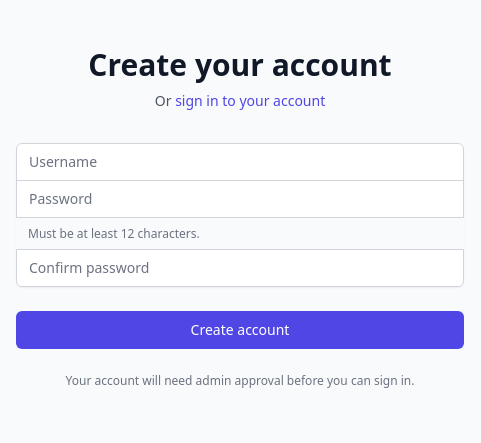
it: Register › shows a validation message when passwords do not match
The image size is (481, 443).
Type "newuser" into the field labelled "Username".
click(240, 162); type("newuser")  # box [16, 143, 464, 181]
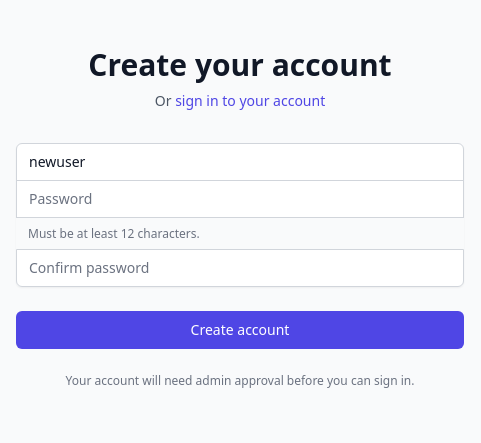
Type "longpassword12" into the password field labelled "Password".
click(240, 199); type("longpassword12")  # box [16, 180, 464, 218]
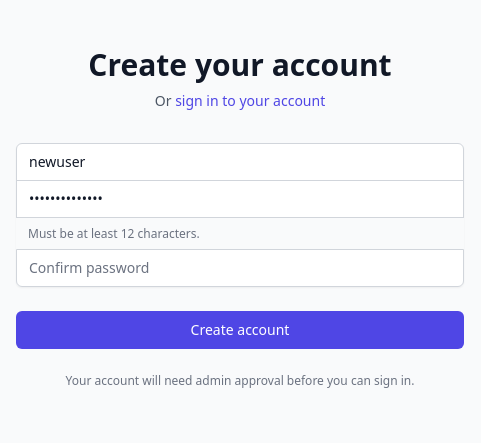
Type "not-secret" into the password field labelled "Confirm password".
click(240, 268); type("not-secret")  # box [16, 249, 464, 287]
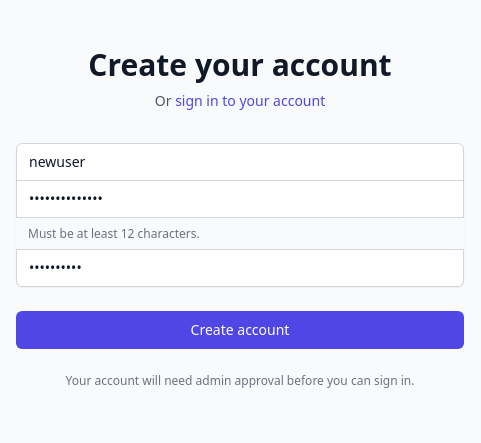
Click the button "Create account".
click(240, 330)  # box [16, 311, 464, 349]
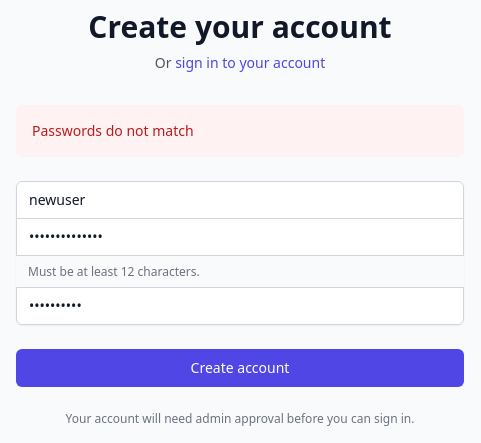
Expected: the text "Passwords do not match" is shown, [32, 121, 194, 140]
